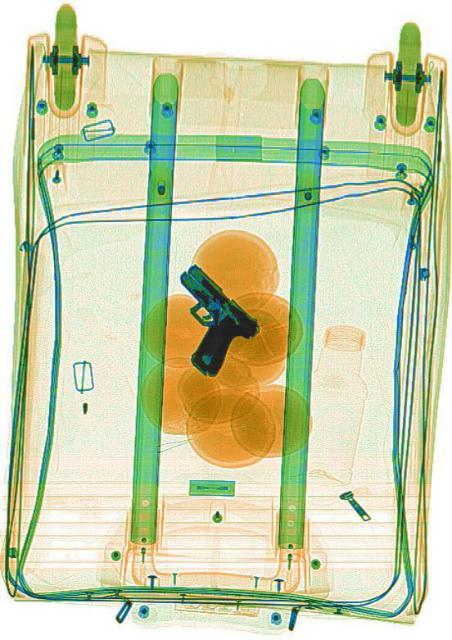Gun: (149, 254, 259, 391)
